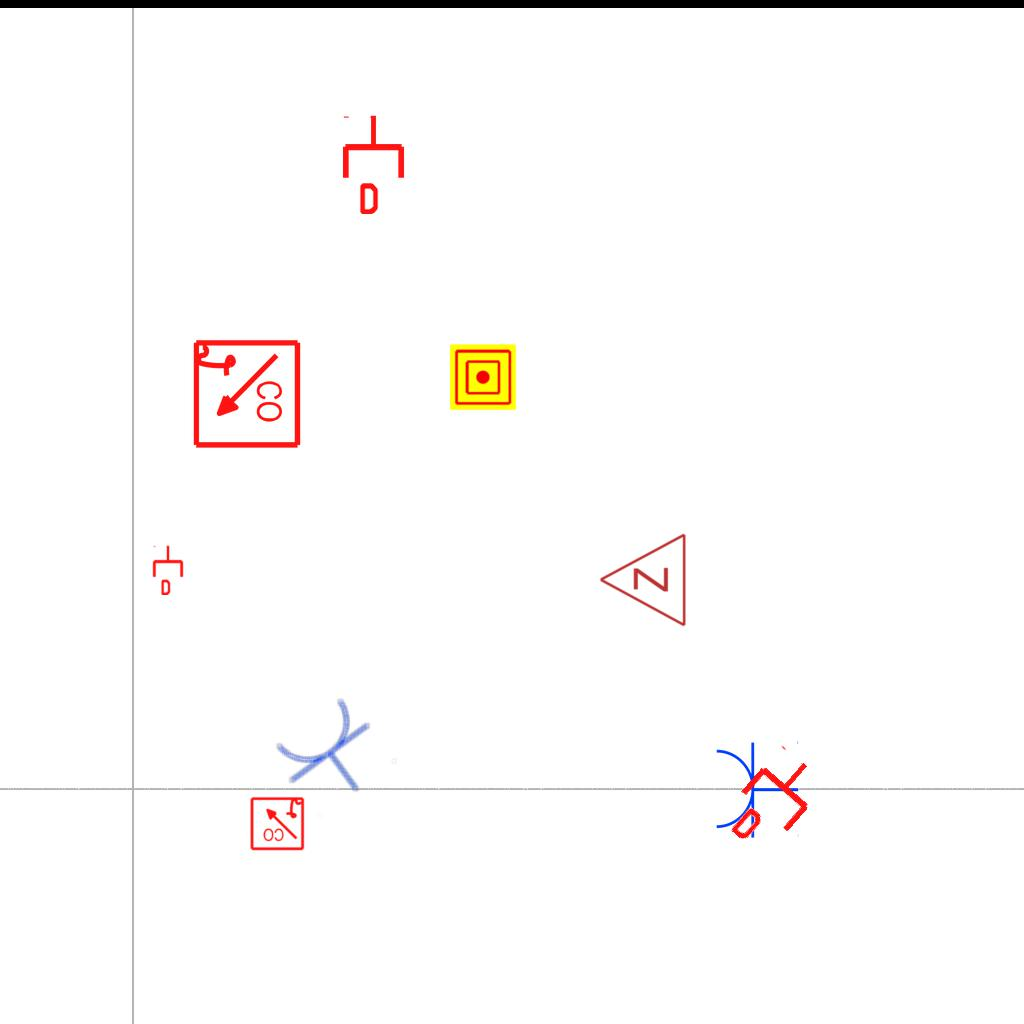Datenanschluss_einfach: (714, 740, 833, 862), (339, 114, 408, 214), (151, 545, 185, 595)
NAM-Nichtautomatischer_Melder: (450, 344, 516, 410)
ROA_Rauchmelder_optisch_mit_Signalgeber_(Sockelsirene): (189, 338, 302, 451), (249, 795, 305, 851)
Schukosteckdose_einfach: (265, 689, 399, 820), (712, 739, 799, 839)
Zimmersignalleuchte: (593, 532, 693, 630)
